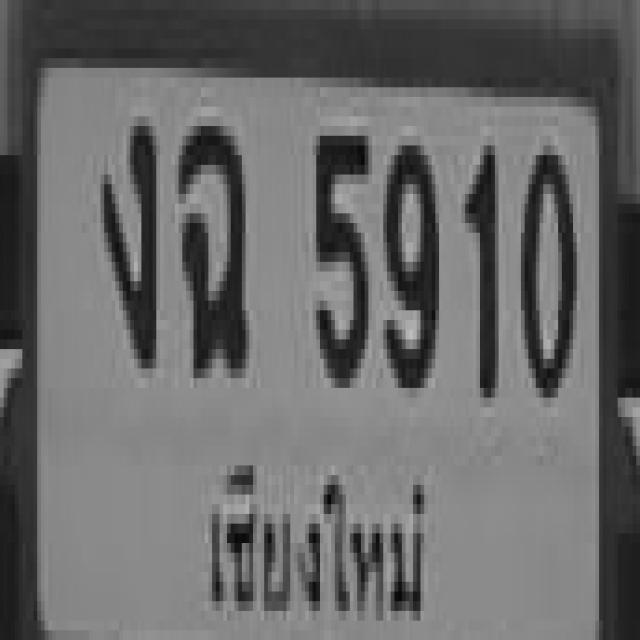0: (513, 114, 591, 418)
1: (455, 121, 510, 414)
16NgorNgu: (89, 80, 173, 392)
18ChorChing: (173, 73, 263, 416)
5: (303, 97, 385, 414)
9: (377, 111, 440, 410)
ChiangMai: (183, 444, 459, 640)
